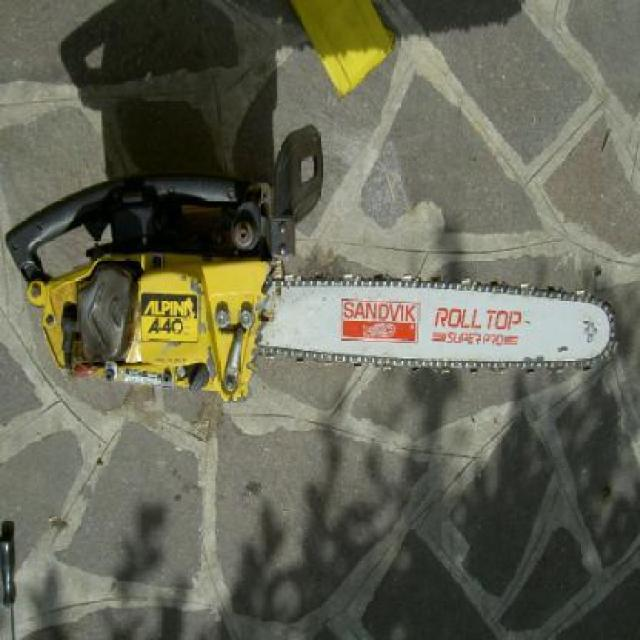Chainsaw: (6, 120, 612, 406)
